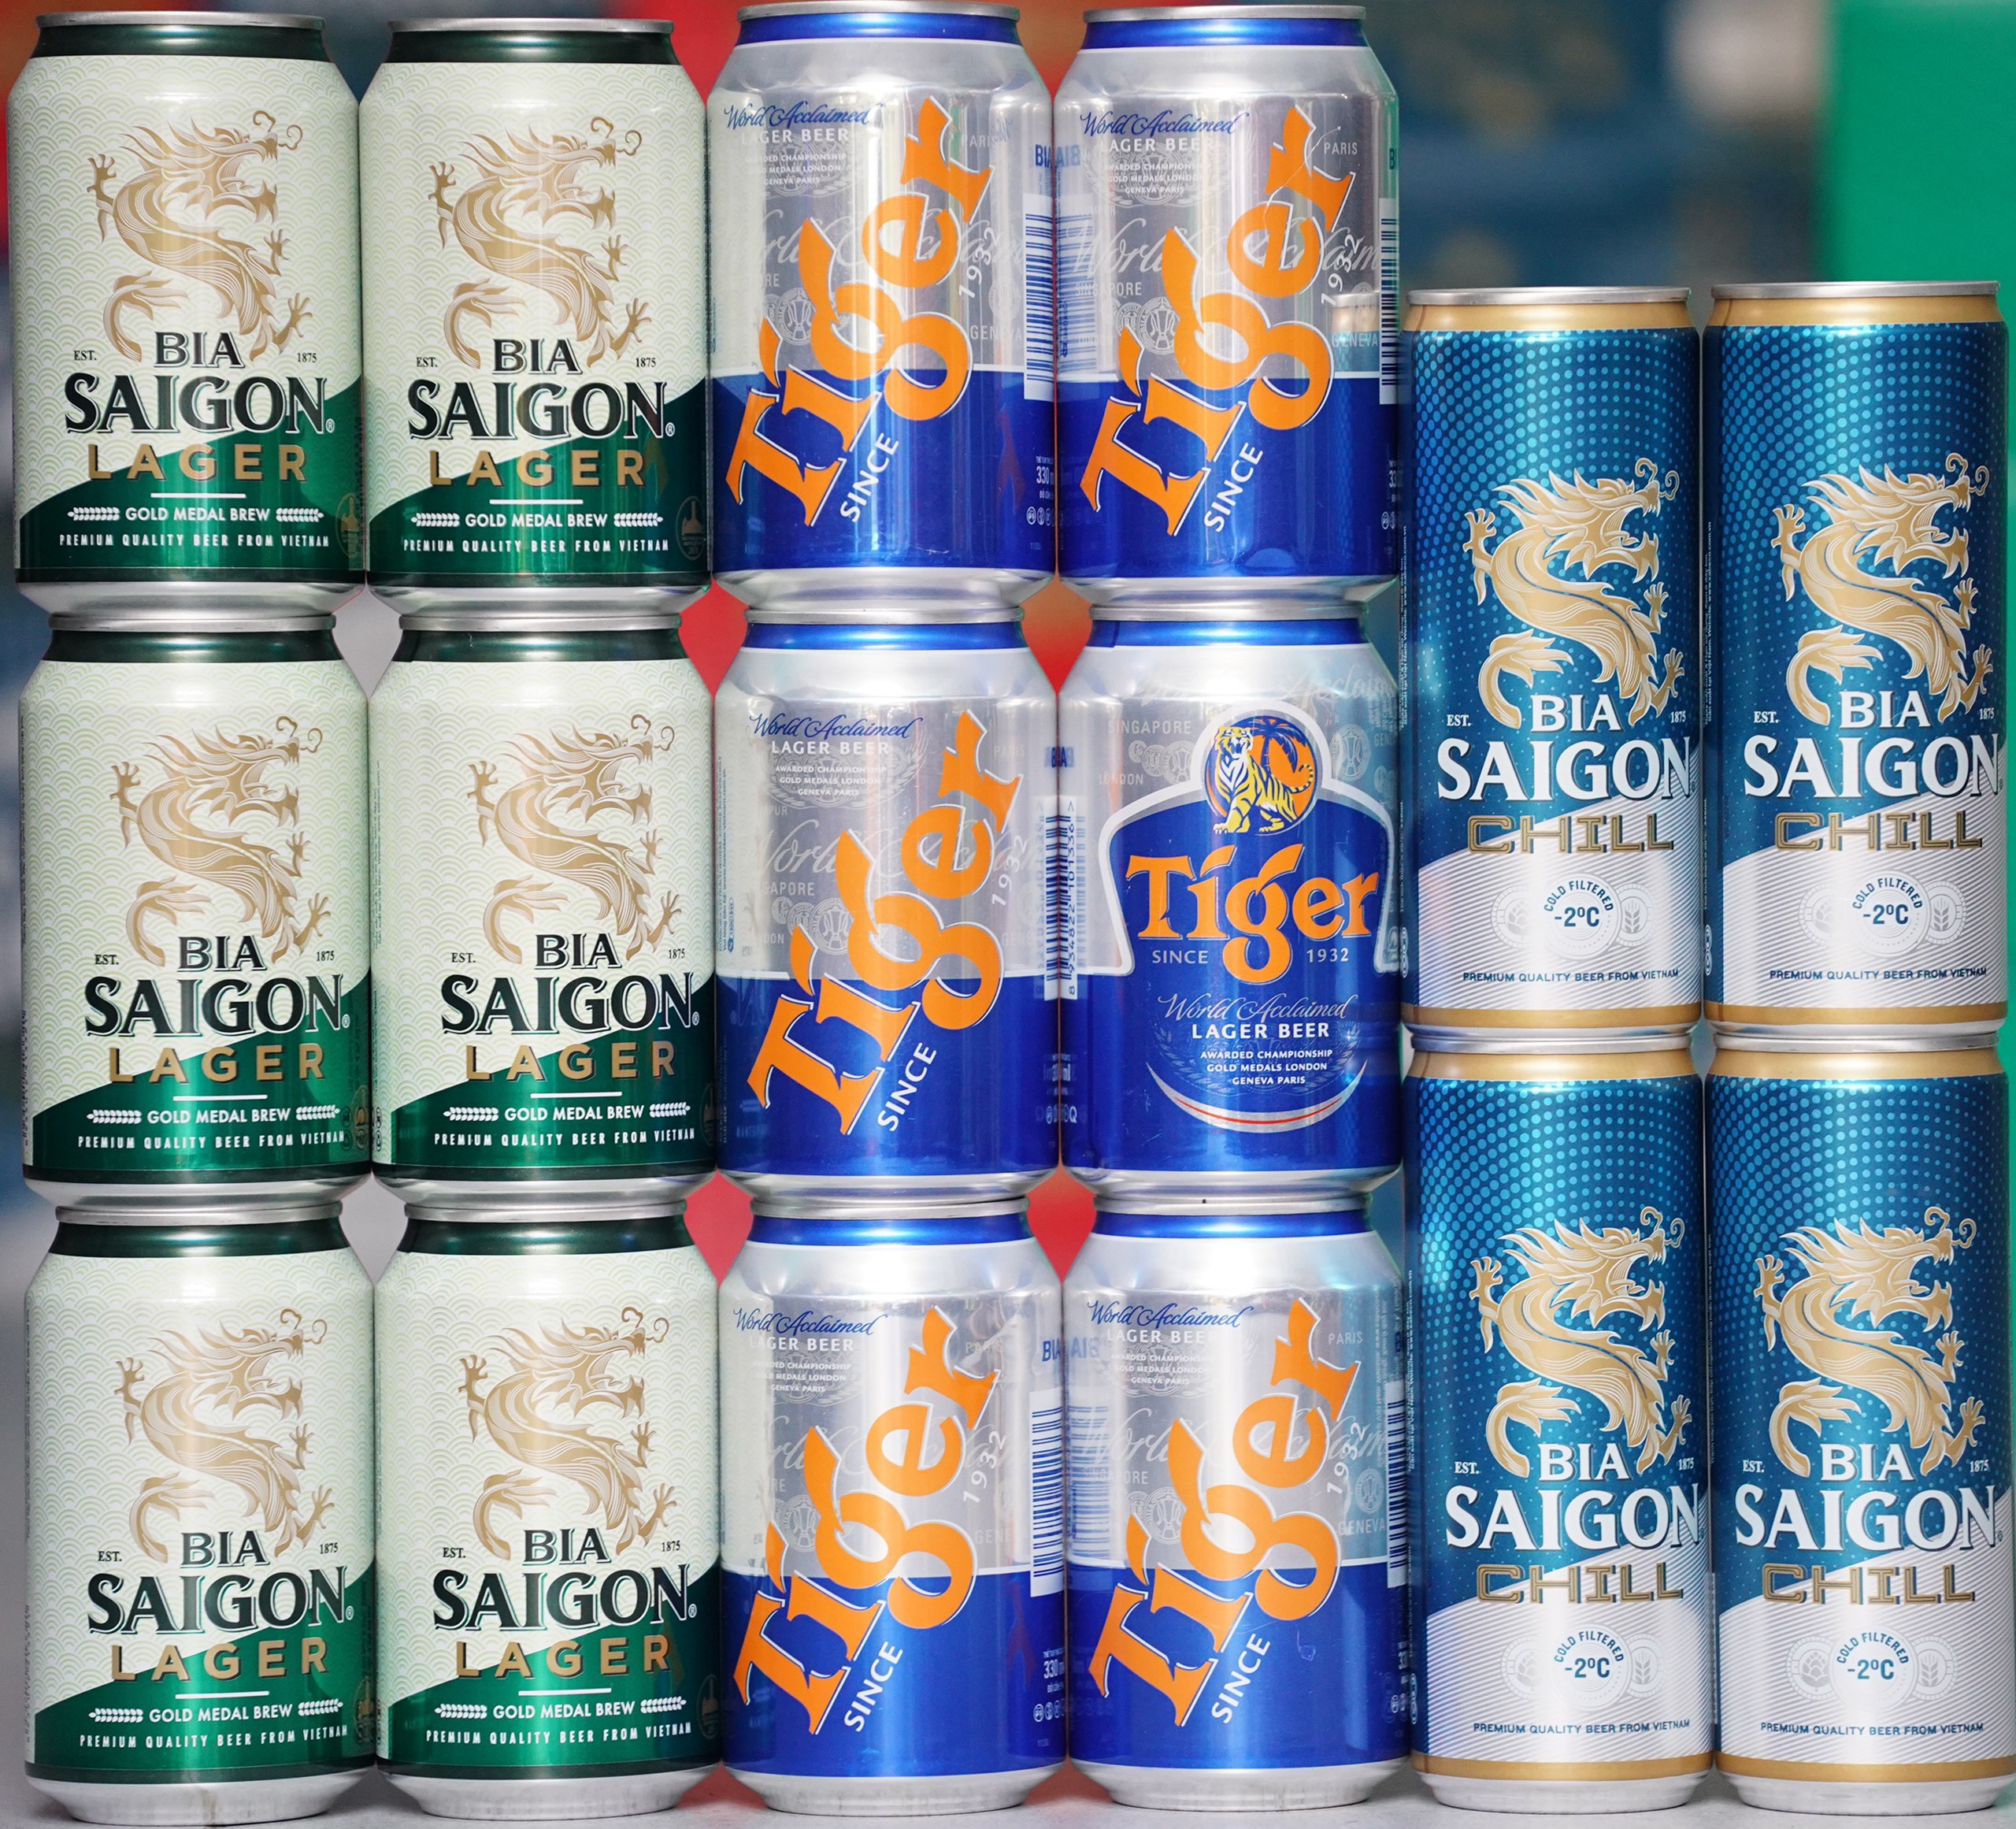biasaigon: (1737, 690, 2005, 805), (1435, 690, 1695, 806), (1442, 1446, 1702, 1562), (399, 334, 671, 445), (1730, 1444, 1997, 1557), (432, 929, 695, 1040), (88, 929, 341, 1044), (61, 334, 325, 441), (81, 1532, 341, 1630), (436, 1525, 690, 1623)
tiger: (729, 1309, 1015, 1753), (1080, 107, 1363, 545), (746, 706, 1022, 1147), (724, 95, 992, 543), (1087, 1295, 1356, 1734), (1115, 838, 1373, 984)
